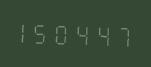five: (36, 18, 54, 46)
four: (75, 19, 93, 47), (94, 20, 112, 48)
one: (17, 17, 35, 45)
seven: (113, 21, 131, 48)
zero: (56, 19, 74, 46)
